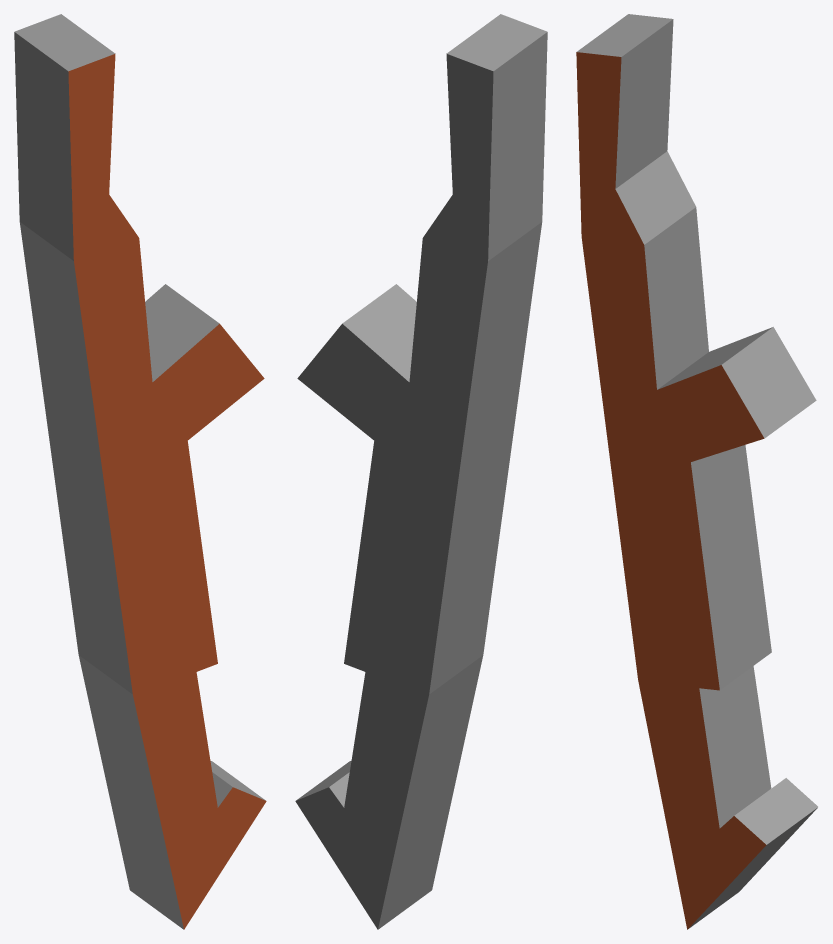
The model's file is construction_1521_assumed_A_Casa_h6m.obj.
3 renders of one model, left to right at view 1: azimuth 30°, elevation 25°; view 2: azimuth 150°, elevation 25°; view 3: azimuth 330°, elevation 25°, orthographic. The views are drawn at different scales.
Visible parts, largest first — view 1: construction_1521_assumed_A_Casa; view 2: construction_1521_assumed_A_Casa; view 3: construction_1521_assumed_A_Casa.
Boxes of the visible parts, <box> form: construction_1521_assumed_A_Casa: <box>14,14,266,929</box>; construction_1521_assumed_A_Casa: <box>295,14,547,929</box>; construction_1521_assumed_A_Casa: <box>576,14,817,929</box>.
Size of the model in its own units: 12.67 by 54.53 by 6.
